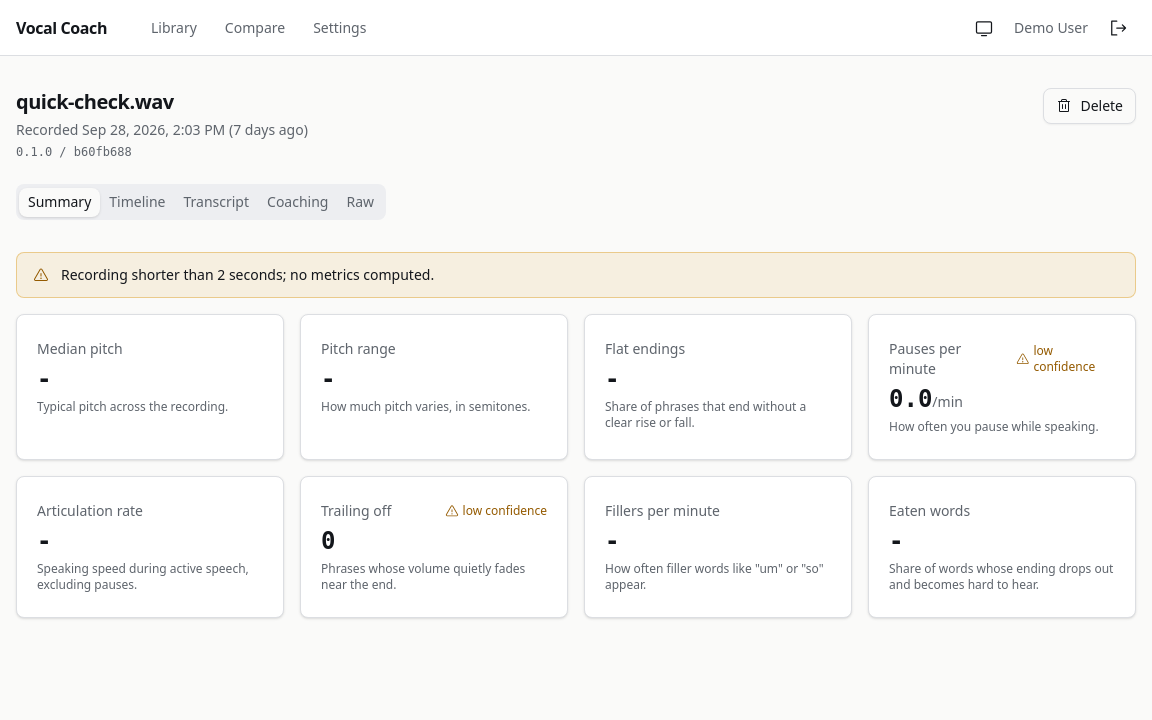
Test: AnalysisPage › shows the quality banner, dashes for every card, and the timeline empty state for too_short
Expected: the text "Recording shorter than 2 seconds; no metrics computed." is shown, [61,265,434,285]
Expected: the text "-" below "Median pitch" is shown, [37,365,52,393]
Click the tab "Timeline" at (137, 202), box [100,188,174,216]
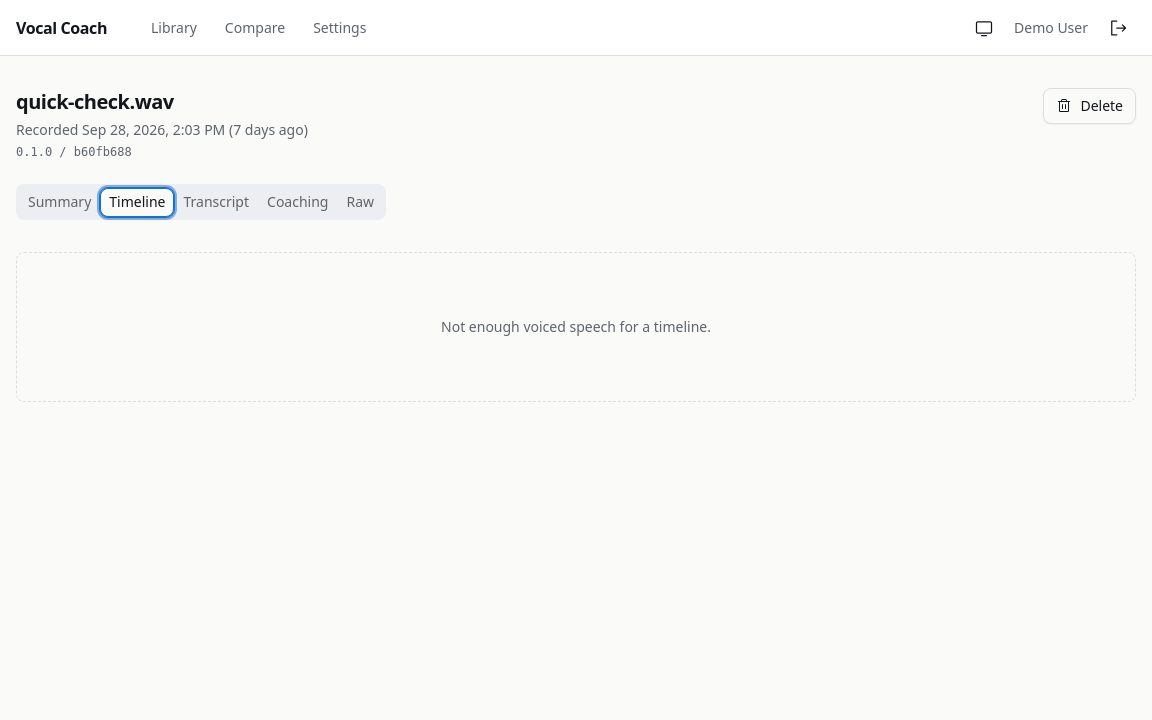
Expected: the text "Not enough voiced speech for a timeline." is shown, [441,317,711,337]
